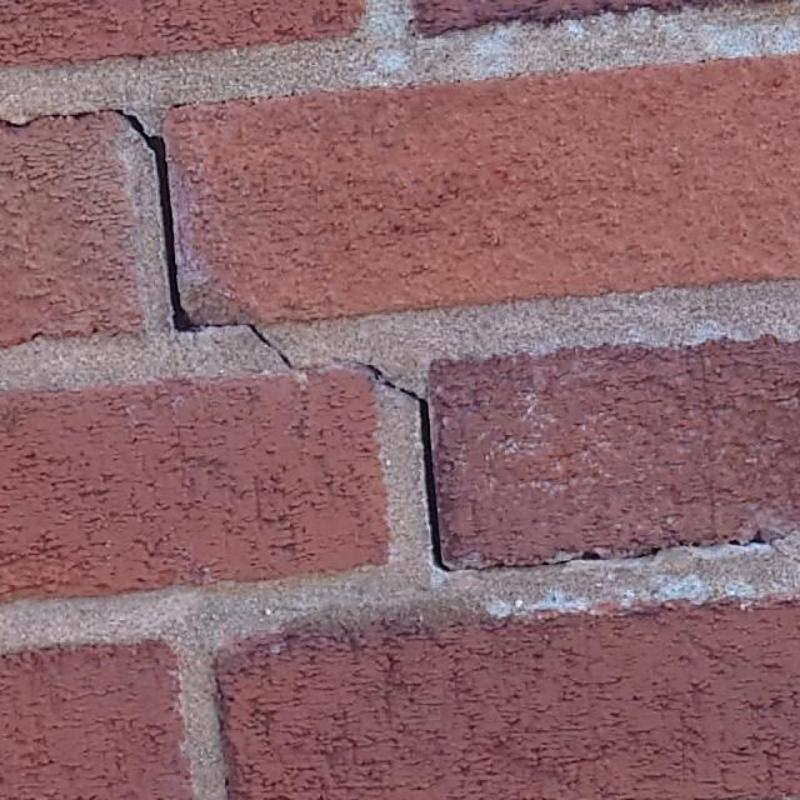crack: (0, 109, 194, 330), (449, 531, 791, 572), (399, 388, 448, 570), (192, 323, 292, 369), (365, 365, 397, 388)
